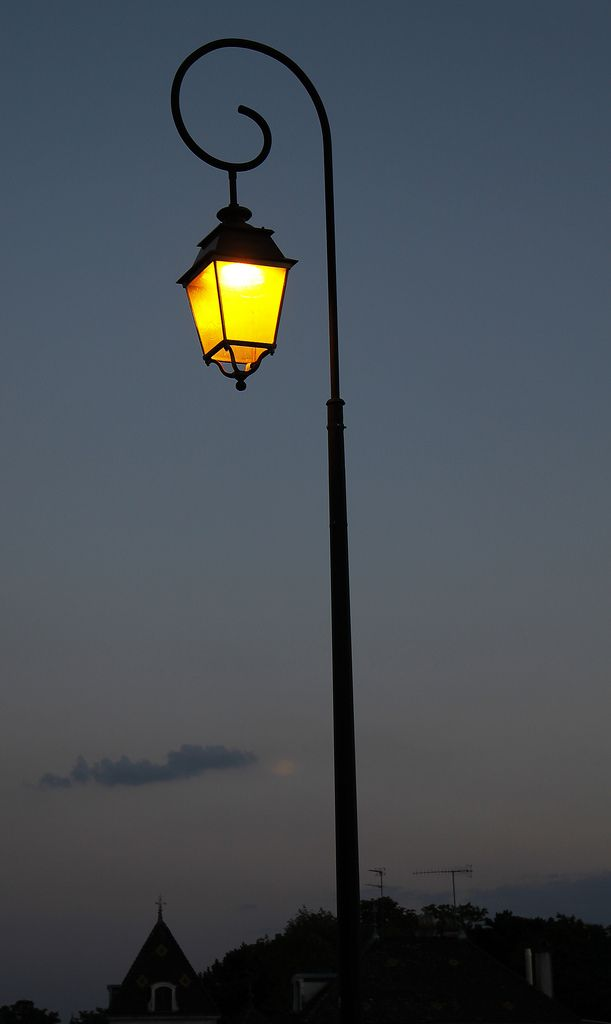Lamp: (141, 34, 415, 942)
